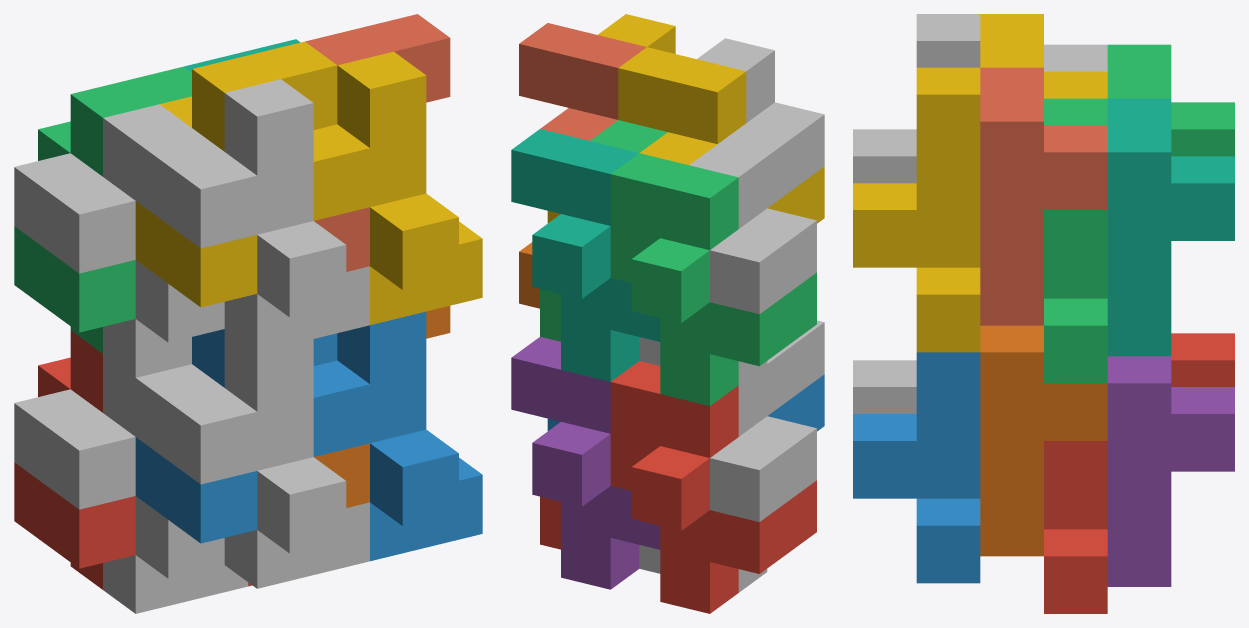
The model's file is tiling.obj.
3 renders of one model, left to right at view 1: azimuth 30°, elevation 25°; view 2: azimuth 150°, elevation 25°; view 3: azimuth 270°, elevation 25°, orthographic. The views are drawn at different scales.
Visible parts, largest first — view 1: copy_2_domain_4, copy_2_domain_2, copy_2_domain_8, copy_2_domain_6, copy_2_domain_3, copy_2_domain_1, copy_1_domain_4, copy_1_domain_3, copy_1_domain_1, copy_1_domain_2, copy_1_domain_8, copy_1_domain_6; view 2: copy_1_domain_3, copy_1_domain_1, copy_1_domain_7, copy_1_domain_5, copy_1_domain_4, copy_2_domain_3, copy_2_domain_1, copy_1_domain_8, copy_2_domain_4, copy_2_domain_7, copy_2_domain_2, copy_2_domain_5 (+3 smaller); view 3: copy_2_domain_8, copy_1_domain_7, copy_1_domain_8, copy_2_domain_6, copy_1_domain_5, copy_1_domain_6, copy_2_domain_7, copy_2_domain_5, copy_1_domain_3, copy_2_domain_4, copy_1_domain_4, copy_1_domain_1 (+2 smaller).
Boxes of the visible parts, <box> form: copy_2_domain_4: <box>135,79,369,352</box>; copy_2_domain_2: <box>135,329,369,588</box>; copy_2_domain_8: <box>313,51,482,324</box>; copy_2_domain_6: <box>313,311,482,561</box>; copy_2_domain_3: <box>14,104,224,377</box>; copy_2_domain_1: <box>14,354,248,613</box>; copy_1_domain_4: <box>135,41,337,307</box>; copy_1_domain_3: <box>14,66,191,353</box>; copy_1_domain_1: <box>14,330,135,589</box>; copy_1_domain_2: <box>135,329,337,543</box>; copy_1_domain_8: <box>305,14,450,271</box>; copy_1_domain_6: <box>314,306,450,507</box>; copy_1_domain_3: <box>610,153,816,405</box>; copy_1_domain_1: <box>610,361,816,613</box>; copy_1_domain_7: <box>511,129,660,381</box>; copy_1_domain_5: <box>511,337,660,589</box>; copy_1_domain_4: <box>618,47,824,223</box>; copy_2_domain_3: <box>639,144,816,384</box>; copy_2_domain_1: <box>639,364,816,592</box>; copy_1_domain_8: <box>519,23,646,140</box>; copy_2_domain_4: <box>697,38,824,207</box>; copy_2_domain_7: <box>540,120,667,341</box>; copy_2_domain_2: <box>767,320,824,415</box>; copy_2_domain_5: <box>540,434,659,549</box>; copy_2_domain_8: <box>853,67,980,352</box>; copy_1_domain_7: <box>1107,98,1234,356</box>; copy_1_domain_8: <box>980,67,1107,325</box>; copy_2_domain_6: <box>853,352,980,583</box>; copy_1_domain_5: <box>1107,356,1234,586</box>; copy_1_domain_6: <box>980,325,1107,556</box>; copy_2_domain_7: <box>1044,98,1107,383</box>; copy_2_domain_5: <box>1044,441,1107,613</box>; copy_1_domain_3: <box>1107,44,1234,156</box>; copy_2_domain_4: <box>853,14,980,183</box>; copy_1_domain_4: <box>980,14,1107,98</box>; copy_1_domain_1: <box>1171,333,1234,386</box>.
Bounding box in the file's own units: 6 × 9 × 6.
